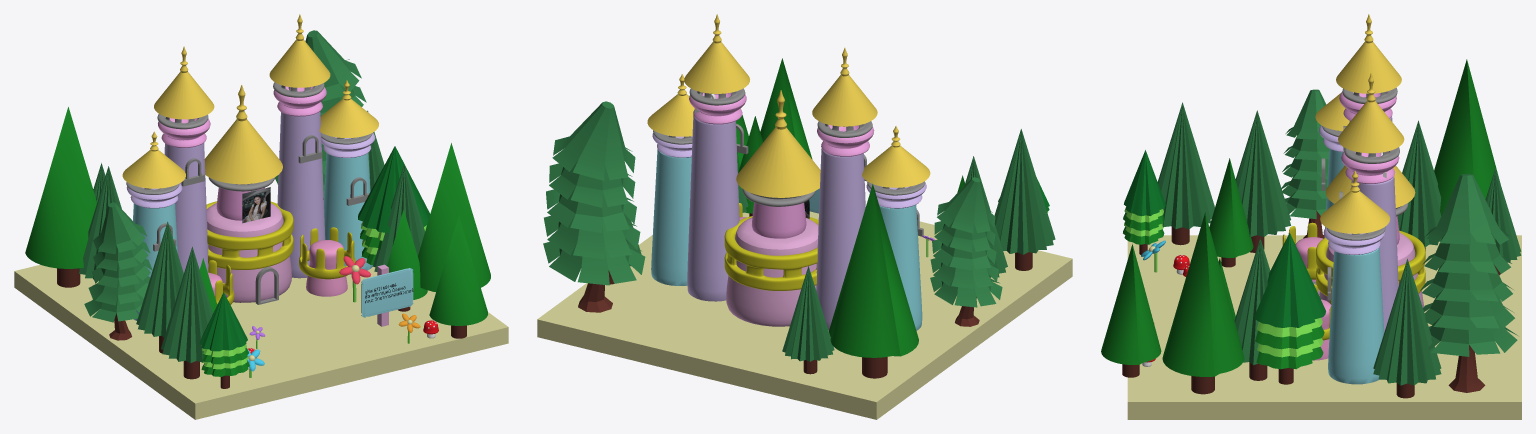
Rendered from Castel.glb.
The picture shows the model from 3 angles, left to right: view 1: azimuth 30°, elevation 25°; view 2: azimuth 150°, elevation 25°; view 3: azimuth 270°, elevation 25°; orthographic projection. The views are drawn at different scales.
Visible parts, largest first — view 1: Cube.011, Cone.013, Circle.037, Circle.005, Cone, Circle, Cone.018, Cylinder, Circle.020, Cone.014, Circle.010, Cone.007 (+27 smaller); view 2: Cube.011, Circle.025, Cone.013, Circle.005, Circle.037, Circle.010, Circle, Circle.020, Cone.014, Cylinder, Circle.001, Circle.015 (+18 smaller); view 3: Cube.011, Circle.025, Cone, Circle.020, Cone.006, Cone.013, Cone.014, Circle.037, Cone.018, Cone.007, Cone.005, Cone.019 (+27 smaller).
Part boxes in pixels (left/top/right/bottom): Cube.011: left=14, top=264, right=508, bottom=419; Cone.013: left=25, top=107, right=97, bottom=268; Circle.037: left=84, top=202, right=152, bottom=322; Circle.005: left=277, top=111, right=325, bottom=278; Cone: left=418, top=143, right=490, bottom=291; Circle: left=206, top=203, right=291, bottom=302; Cone.018: left=429, top=215, right=487, bottom=325; Cylinder: left=204, top=119, right=282, bottom=184; Circle.020: left=324, top=153, right=372, bottom=274; Cone.014: left=161, top=246, right=212, bottom=363; Circle.010: left=164, top=143, right=208, bottom=272; Cone.007: left=136, top=221, right=183, bottom=336; Cube.011: left=537, top=211, right=1072, bottom=419; Circle.025: left=543, top=101, right=645, bottom=285; Cone.013: left=829, top=184, right=918, bottom=357; Circle.005: left=687, top=115, right=739, bottom=301; Circle.037: left=930, top=177, right=1002, bottom=307; Circle.010: left=816, top=148, right=865, bottom=330; Circle: left=726, top=217, right=818, bottom=326; Circle.020: left=651, top=149, right=691, bottom=285; Cone.014: left=994, top=129, right=1055, bottom=254; Cylinder: left=736, top=127, right=820, bottom=197; Circle.001: left=724, top=216, right=818, bottom=290; Circle.015: left=879, top=205, right=922, bottom=330; Cube.011: left=1127, top=235, right=1521, bottom=419; Circle.025: left=1420, top=174, right=1517, bottom=356; Cone: left=1162, top=212, right=1244, bottom=376; Circle.020: left=1328, top=246, right=1384, bottom=384; Cone.006: left=1373, top=258, right=1441, bottom=385; Cone.013: left=1434, top=59, right=1499, bottom=215; Cone.014: left=1157, top=102, right=1214, bottom=229; Circle.037: left=1281, top=89, right=1329, bottom=218; Cone.018: left=1101, top=244, right=1161, bottom=364; Cone.007: left=1235, top=110, right=1290, bottom=236; Cone.005: left=1254, top=233, right=1325, bottom=327; Cone.019: left=1397, top=120, right=1441, bottom=247.
Size of the model in its own units: 11.07 by 8.27 by 10.68.
23 materials, 1 textured.
